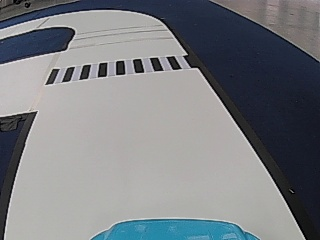CrossWalk: (49, 56, 187, 83)
